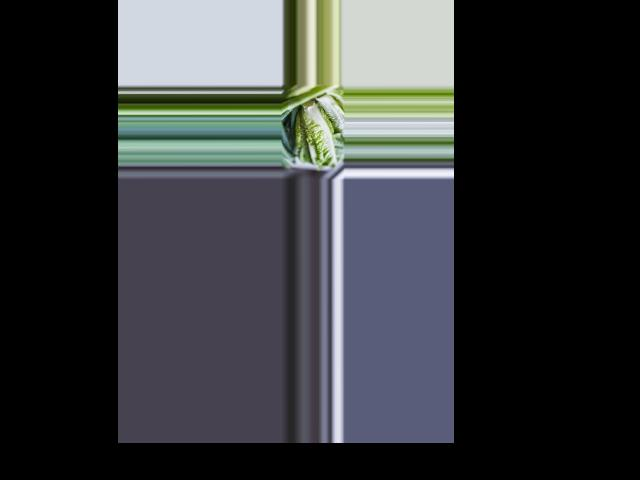lettuce: (294, 100, 337, 168)
